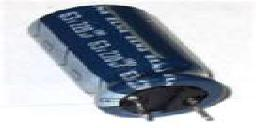Electrolytic-Capacitor: (27, 2, 234, 127)
